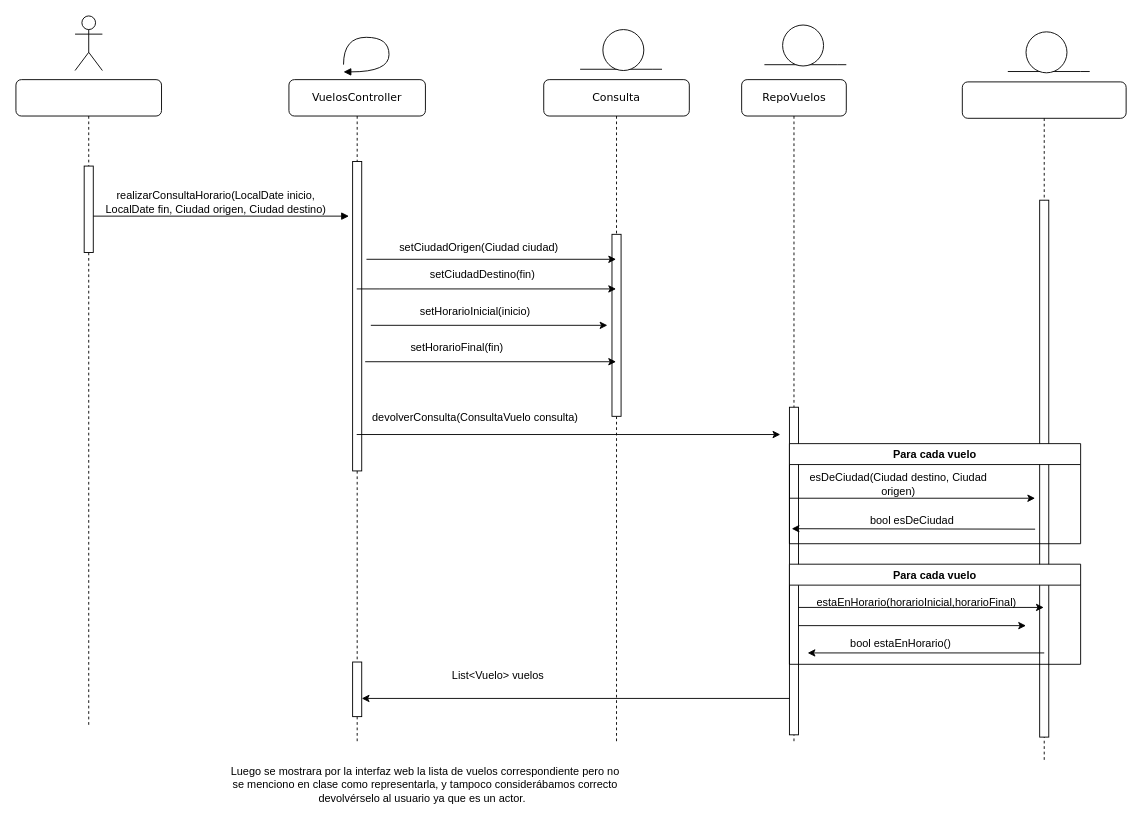
The diagram is 1142 pixels wide and 820 high, and some of its shapes have lost their labels. Here are the shapes that lost their labels. From the top down, the box of each, then its label:
(15, 79, 162, 726): Usuario
(961, 81, 1126, 762): Vuelo
